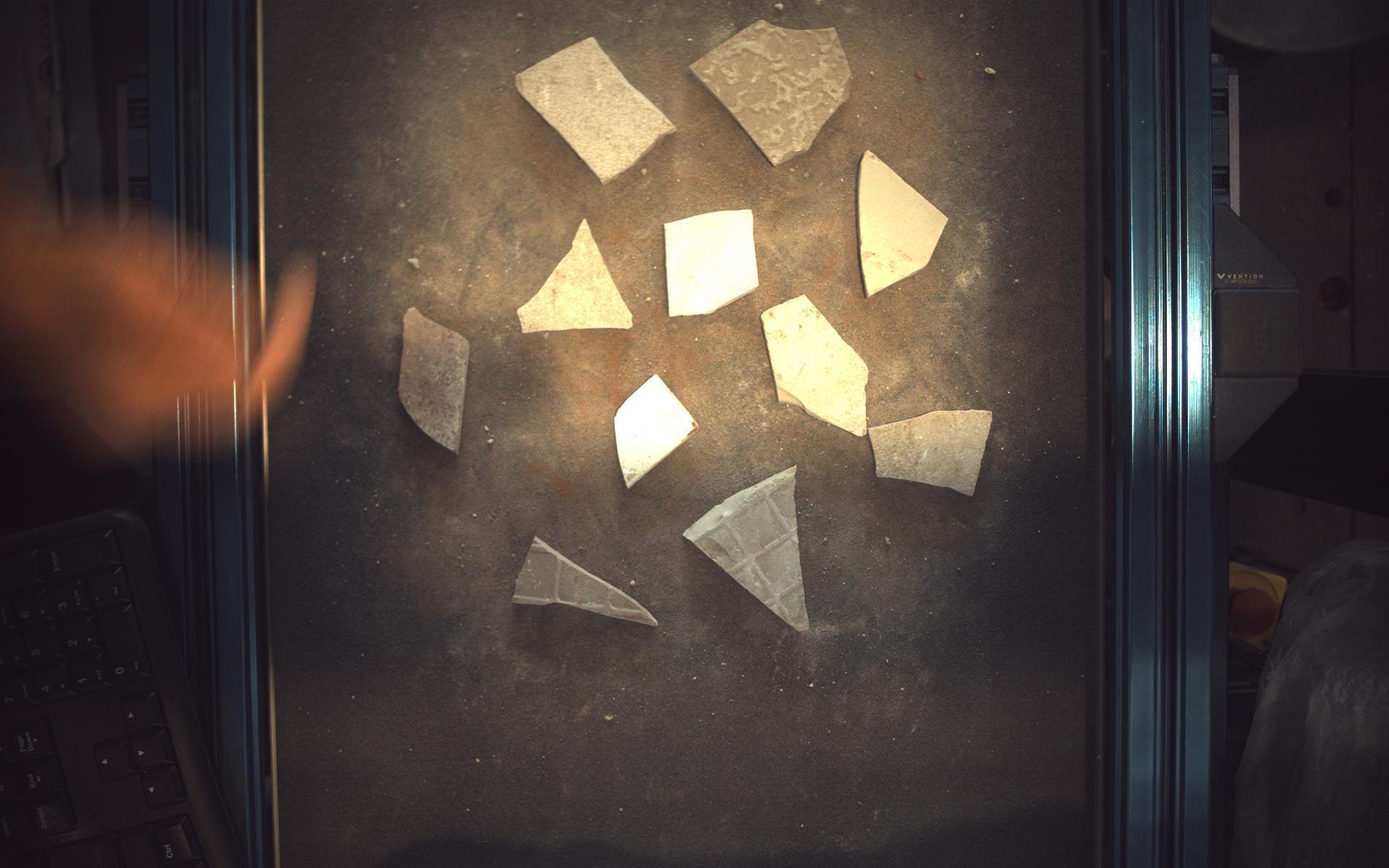tile: (691, 18, 853, 164), (516, 36, 676, 182), (684, 467, 810, 631), (763, 295, 870, 437), (517, 218, 633, 333), (859, 150, 950, 295), (513, 537, 659, 627), (870, 409, 993, 496), (398, 307, 470, 453), (665, 209, 759, 316), (615, 375, 699, 488)
